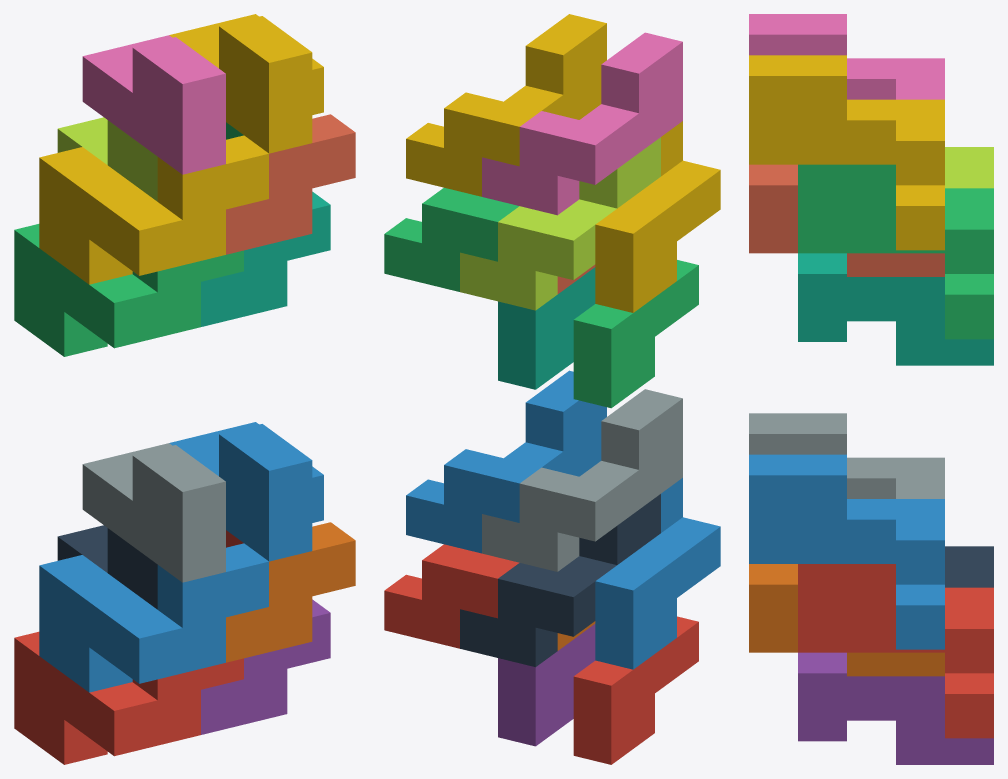
The model's file is tiling.obj.
The picture shows the model from 3 angles, left to right: view 1: azimuth 30°, elevation 25°; view 2: azimuth 150°, elevation 25°; view 3: azimuth 270°, elevation 25°; orthographic projection. The views are drawn at different scales.
Parts seen in each view (by area): view 1: copy_1_domain_4, copy_1_domain_2, copy_1_domain_1, copy_1_domain_3, copy_2_domain_2, copy_2_domain_4, copy_2_domain_8, copy_2_domain_6, copy_1_domain_8, copy_1_domain_6, copy_1_domain_7, copy_1_domain_5 (+2 smaller); view 2: copy_2_domain_4, copy_2_domain_2, copy_2_domain_8, copy_2_domain_6, copy_2_domain_3, copy_2_domain_1, copy_1_domain_2, copy_1_domain_4, copy_1_domain_1, copy_1_domain_3, copy_2_domain_5, copy_2_domain_7 (+2 smaller); view 3: copy_2_domain_8, copy_2_domain_6, copy_2_domain_7, copy_2_domain_5, copy_1_domain_5, copy_1_domain_7, copy_2_domain_2, copy_2_domain_4, copy_1_domain_6, copy_1_domain_8, copy_2_domain_1, copy_2_domain_3.
Boxes of the visible parts, bbox=[...] form: copy_1_domain_4: bbox=[39, 135, 268, 284]; copy_1_domain_2: bbox=[39, 543, 268, 692]; copy_1_domain_1: bbox=[14, 631, 243, 764]; copy_1_domain_3: bbox=[14, 224, 243, 356]; copy_2_domain_2: bbox=[82, 443, 225, 582]; copy_2_domain_4: bbox=[82, 35, 225, 174]; copy_2_domain_8: bbox=[169, 14, 323, 153]; copy_2_domain_6: bbox=[169, 422, 323, 561]; copy_1_domain_8: bbox=[226, 114, 355, 254]; copy_1_domain_6: bbox=[226, 522, 355, 662]; copy_1_domain_7: bbox=[201, 191, 330, 326]; copy_1_domain_5: bbox=[201, 599, 330, 734]; copy_2_domain_4: bbox=[482, 32, 682, 215]; copy_2_domain_2: bbox=[482, 389, 682, 571]; copy_2_domain_8: bbox=[406, 14, 606, 196]; copy_2_domain_6: bbox=[406, 370, 606, 553]; copy_2_domain_3: bbox=[460, 137, 660, 310]; copy_2_domain_1: bbox=[460, 494, 660, 667]; copy_1_domain_2: bbox=[595, 478, 720, 669]; copy_1_domain_4: bbox=[595, 121, 720, 312]; copy_1_domain_1: bbox=[573, 616, 698, 764]; copy_1_domain_3: bbox=[573, 260, 698, 408]; copy_2_domain_5: bbox=[384, 544, 519, 648]; copy_2_domain_7: bbox=[384, 187, 519, 291]; copy_2_domain_8: bbox=[749, 55, 944, 250]; copy_2_domain_6: bbox=[749, 454, 944, 649]; copy_2_domain_7: bbox=[798, 164, 993, 339]; copy_2_domain_5: bbox=[798, 564, 993, 738]; copy_1_domain_5: bbox=[798, 652, 993, 764]; copy_1_domain_7: bbox=[798, 253, 993, 365]; copy_2_domain_2: bbox=[749, 413, 944, 498]; copy_2_domain_4: bbox=[749, 14, 944, 99]; copy_1_domain_6: bbox=[749, 564, 944, 676]; copy_1_domain_8: bbox=[749, 164, 944, 276]; copy_2_domain_1: bbox=[945, 546, 993, 587]; copy_2_domain_3: bbox=[945, 147, 993, 188].
Size of the model in its own units: 6 by 16 by 5.
